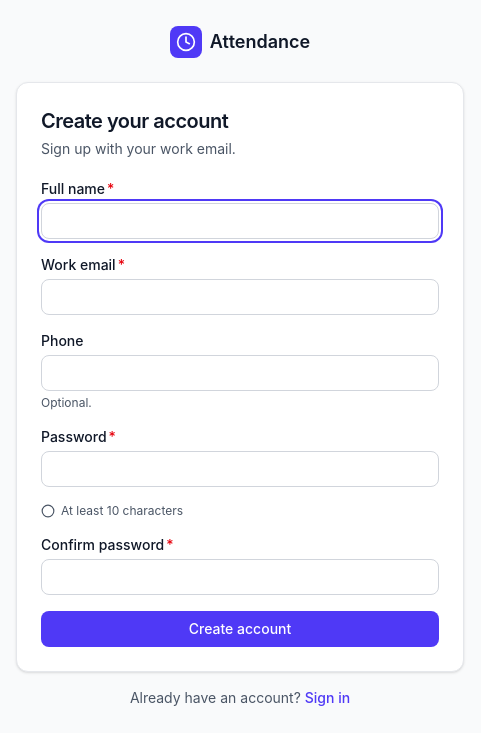
Scenario: SignupPage › requires matching passwords
Step 1. Type "Asha Rao" into the field labelled "Full name*" → x=240, y=221, box left=41, top=203, right=439, bottom=239
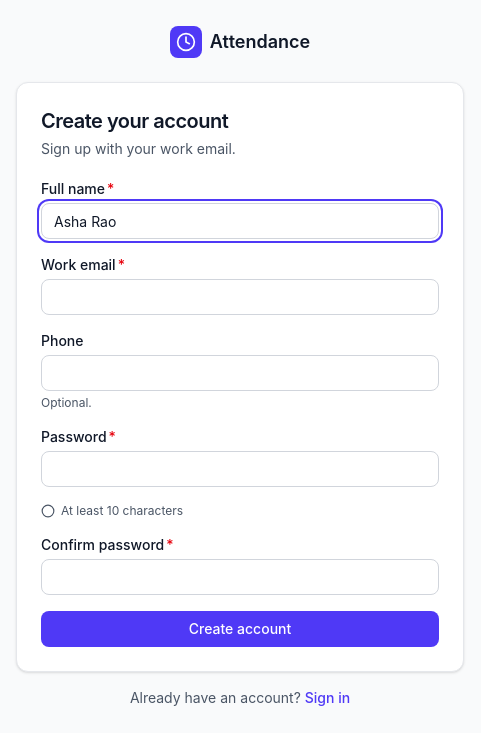
Step 2. Type "asha@kxn.com" into the field labelled "Work email*" → x=240, y=297, box left=41, top=279, right=439, bottom=315
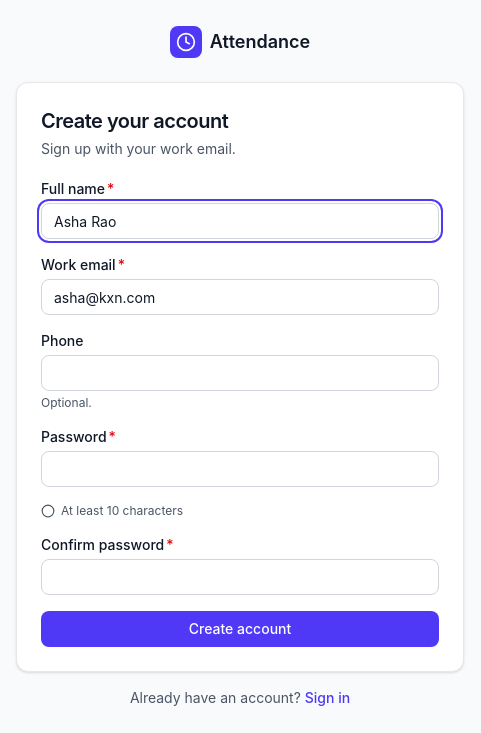
Step 3. Type "StrongPass123" into the password field labelled "Password*" → x=240, y=469, box left=41, top=451, right=439, bottom=487
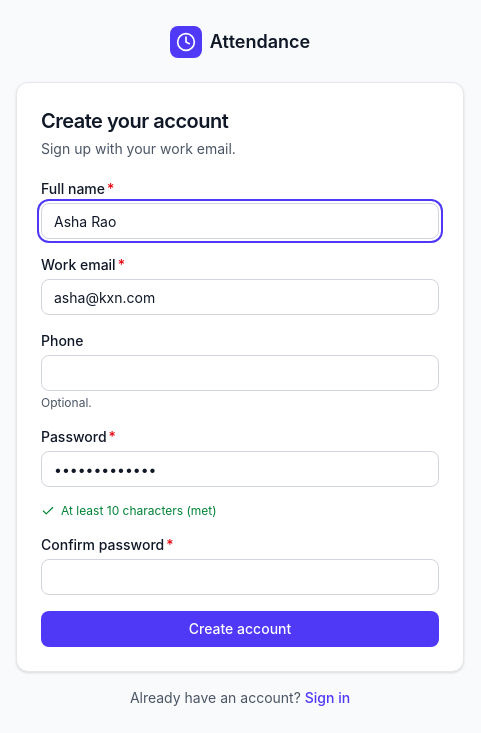
Step 4. Type "Different12345" into the password field labelled "Confirm password*" → x=240, y=577, box left=41, top=559, right=439, bottom=595
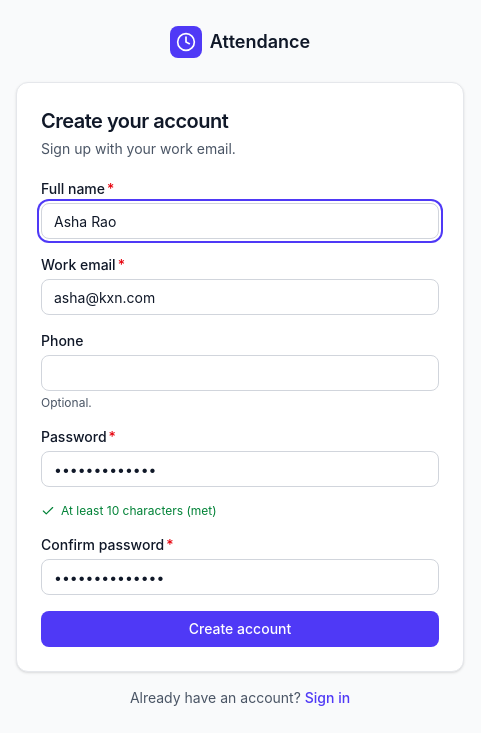
Step 5. Click the button "Create account" → x=240, y=629, box left=41, top=611, right=439, bottom=647
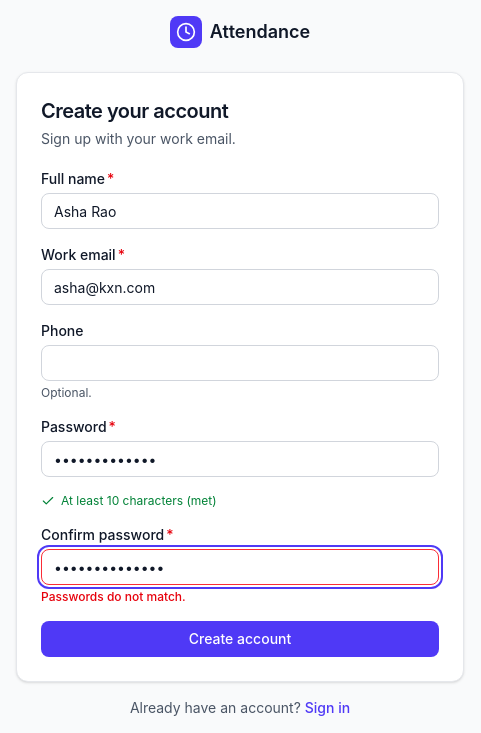
Expected: the text "Passwords do not match." is shown, left=41, top=589, right=186, bottom=604
